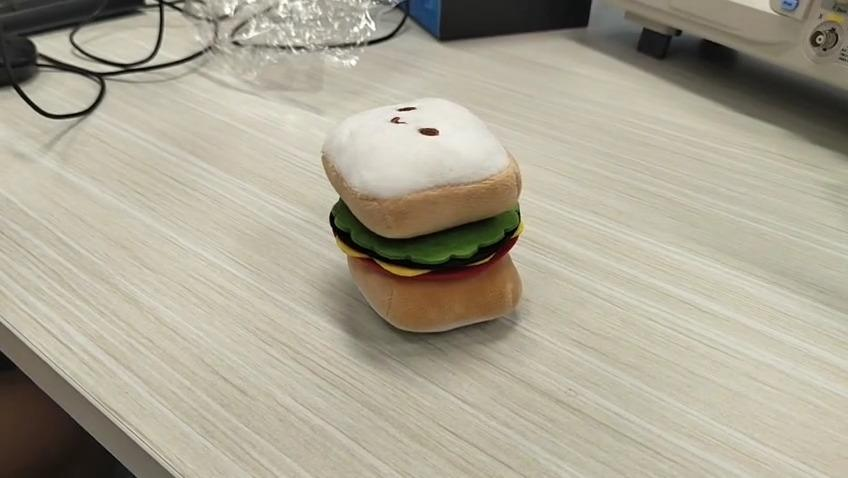objects: (321, 95, 524, 334)
